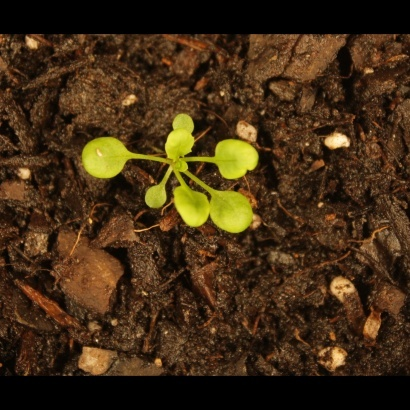leaf: (81, 134, 135, 180), (212, 135, 265, 180), (168, 183, 217, 230), (208, 188, 259, 233), (159, 125, 199, 163), (140, 181, 174, 213), (167, 106, 203, 135)
